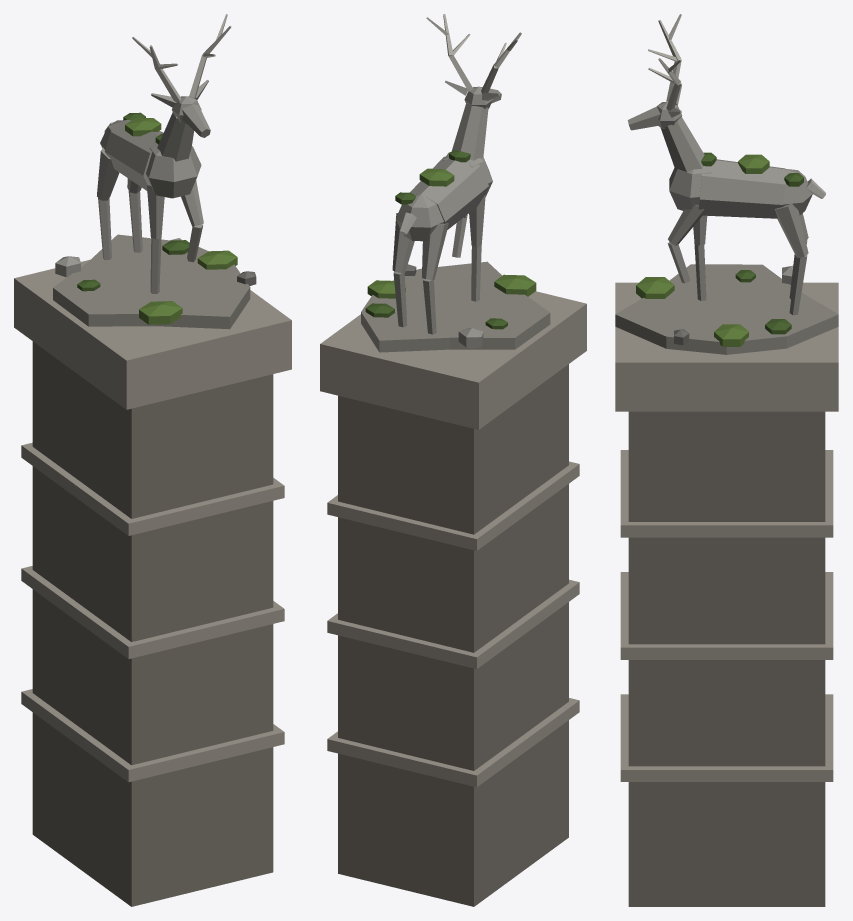
The model's file is decor_petrified_deer.glb.
The picture shows the model from 3 angles, left to right: view 1: azimuth 30°, elevation 25°; view 2: azimuth 150°, elevation 25°; view 3: azimuth 270°, elevation 25°; orthographic projection. The views are drawn at different scales.
Parts seen in each view (by area): view 1: decor_petrified_deer; view 2: decor_petrified_deer; view 3: decor_petrified_deer.
Part boxes in pixels (left/top/right/bottom): decor_petrified_deer: left=14, top=14, right=291, bottom=906; decor_petrified_deer: left=320, top=14, right=586, bottom=906; decor_petrified_deer: left=615, top=14, right=838, bottom=906.
Bounding box in the file's own units: 1.41 × 6.85 × 1.66.
